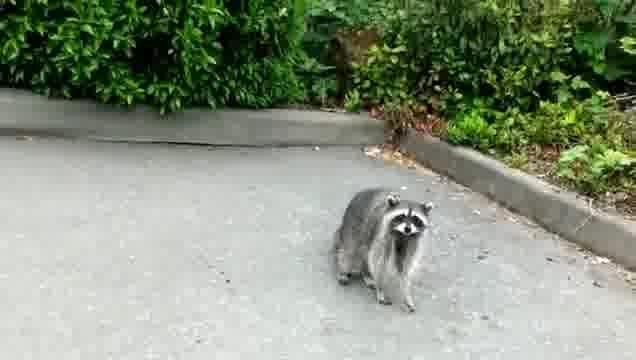raccoon: (332, 182, 437, 316)
